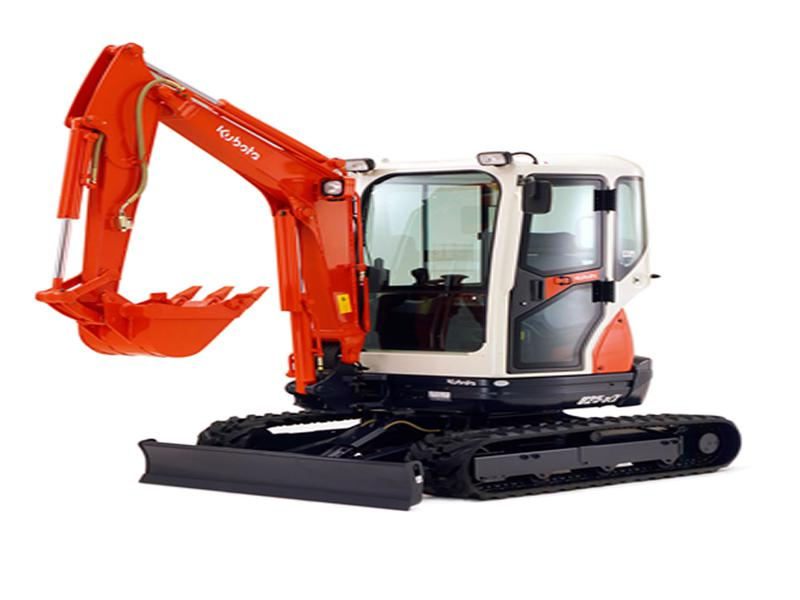shovel: (29, 35, 750, 519)
